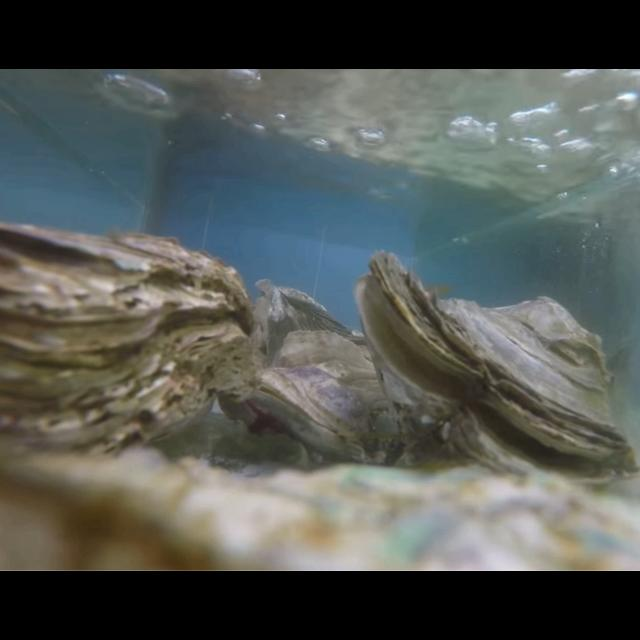Oyster-Closed: (0, 447, 640, 571), (0, 222, 254, 477), (254, 274, 370, 364)
Oyster-Open: (355, 251, 640, 494), (249, 332, 409, 468)
